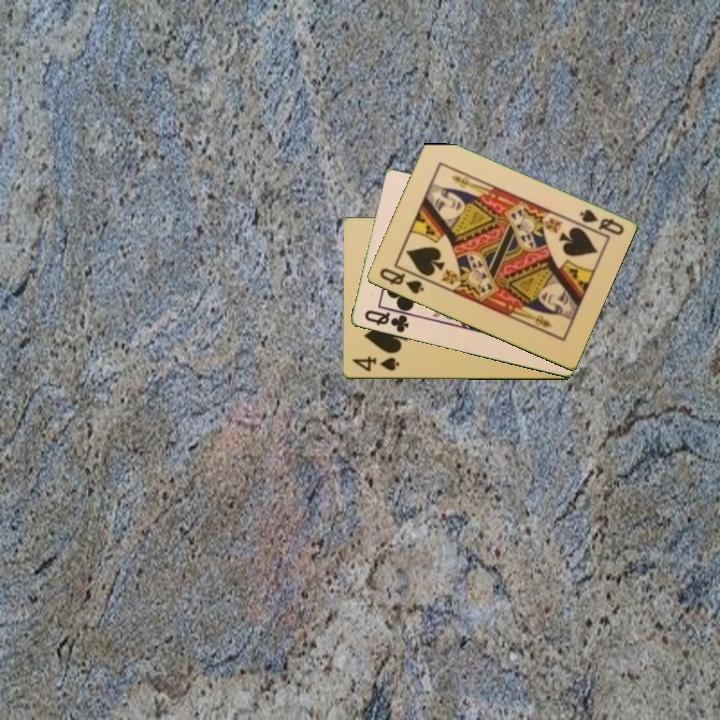4s: (348, 353, 402, 375)
Qc: (360, 307, 412, 336)
Qs: (571, 206, 627, 239), (376, 265, 427, 297)
